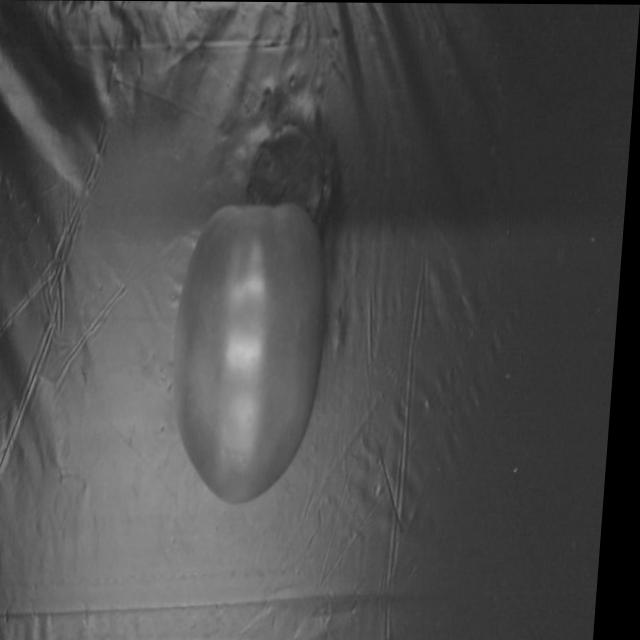sari: (147, 184, 367, 545)
